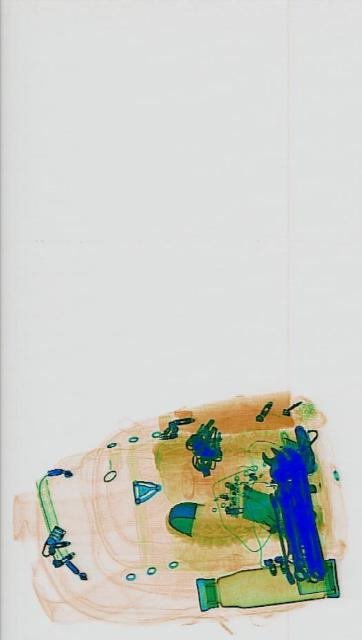Pliers: (258, 440, 309, 584)
